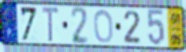2: (70, 4, 90, 47), (122, 9, 142, 45)
5: (146, 8, 166, 48)
7: (20, 6, 39, 42)
O: (93, 9, 114, 45)
T: (41, 5, 61, 44)
